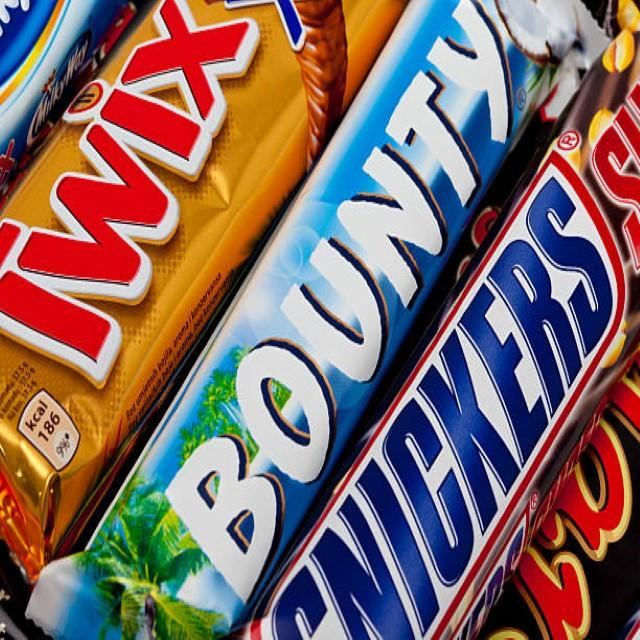snickers_chocolate: (200, 85, 640, 640)
